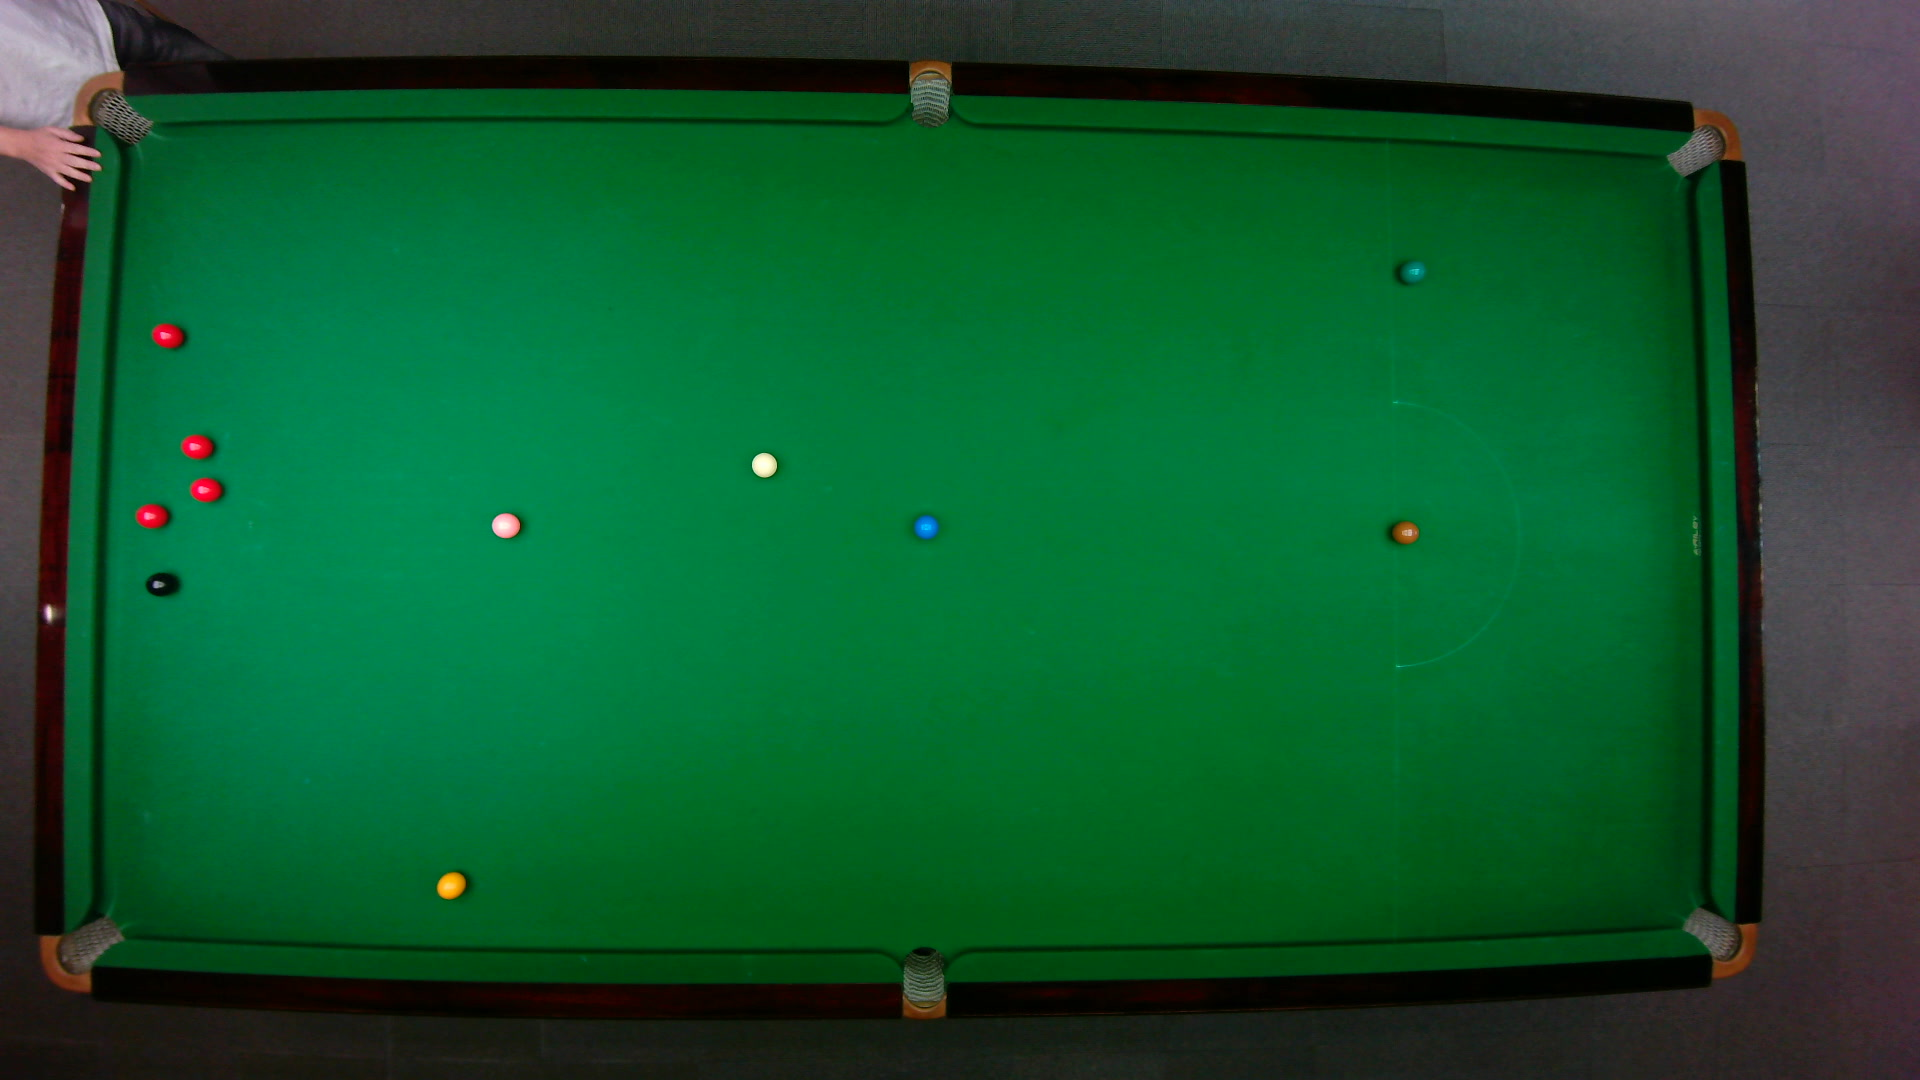bag: (37, 914, 125, 993), (71, 70, 154, 146), (1677, 905, 1756, 978), (1664, 107, 1742, 179), (901, 944, 944, 1021), (909, 58, 953, 129)
black: (142, 570, 178, 599)
blue: (911, 513, 940, 542)
brown: (1390, 520, 1422, 546)
green: (1396, 257, 1428, 286)
pink: (489, 512, 524, 541)
red: (133, 501, 171, 531), (149, 320, 187, 351), (178, 433, 218, 462), (189, 475, 225, 505)
white: (750, 451, 779, 480)
yellow: (434, 869, 468, 902)
zone: (1390, 398, 1520, 669)
